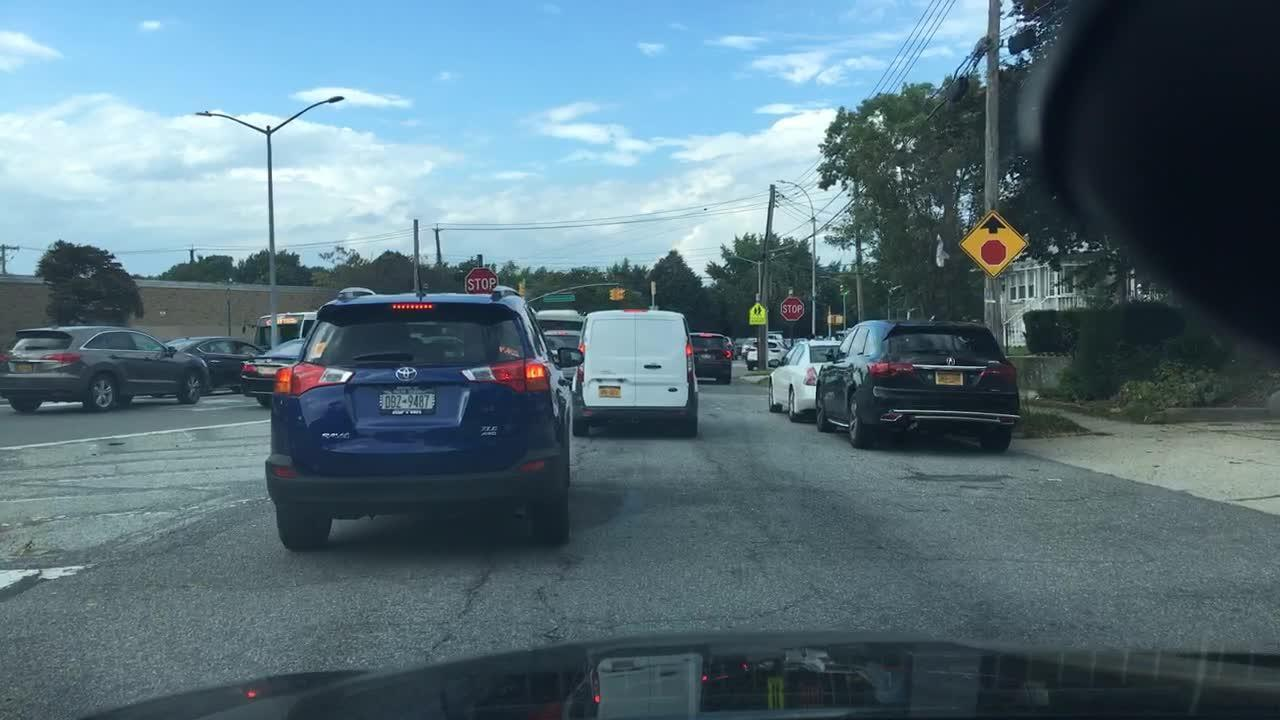Toyota: (387, 359, 429, 387)
acura: (944, 355, 956, 370)
